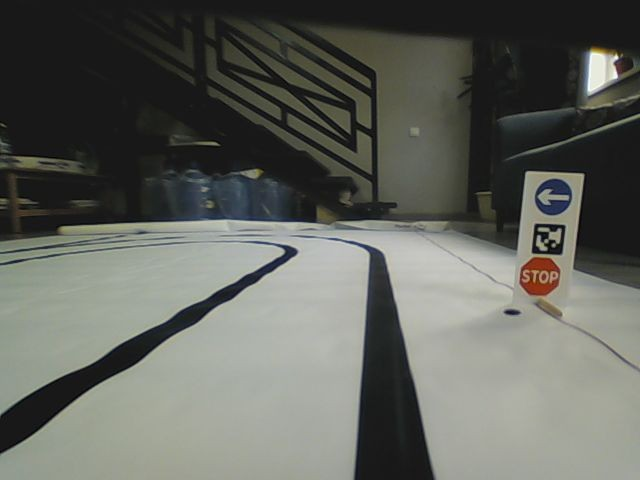Stop: (519, 256, 562, 299)
